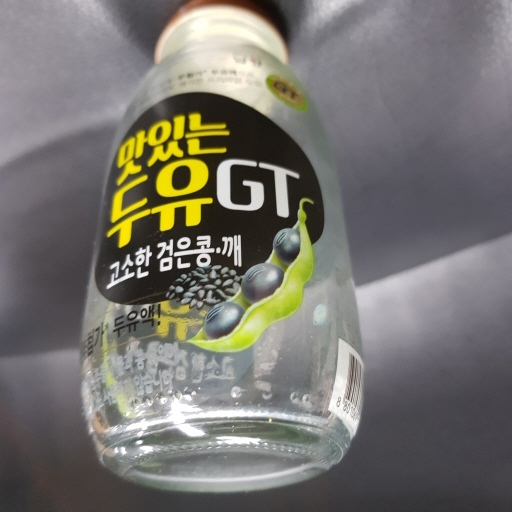Glass_4: (69, 1, 374, 495)
